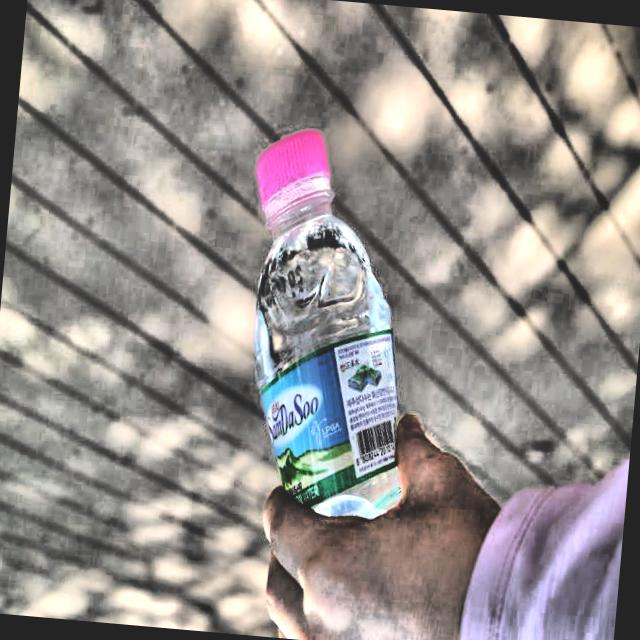plastic bottle: (255, 130, 402, 518)
